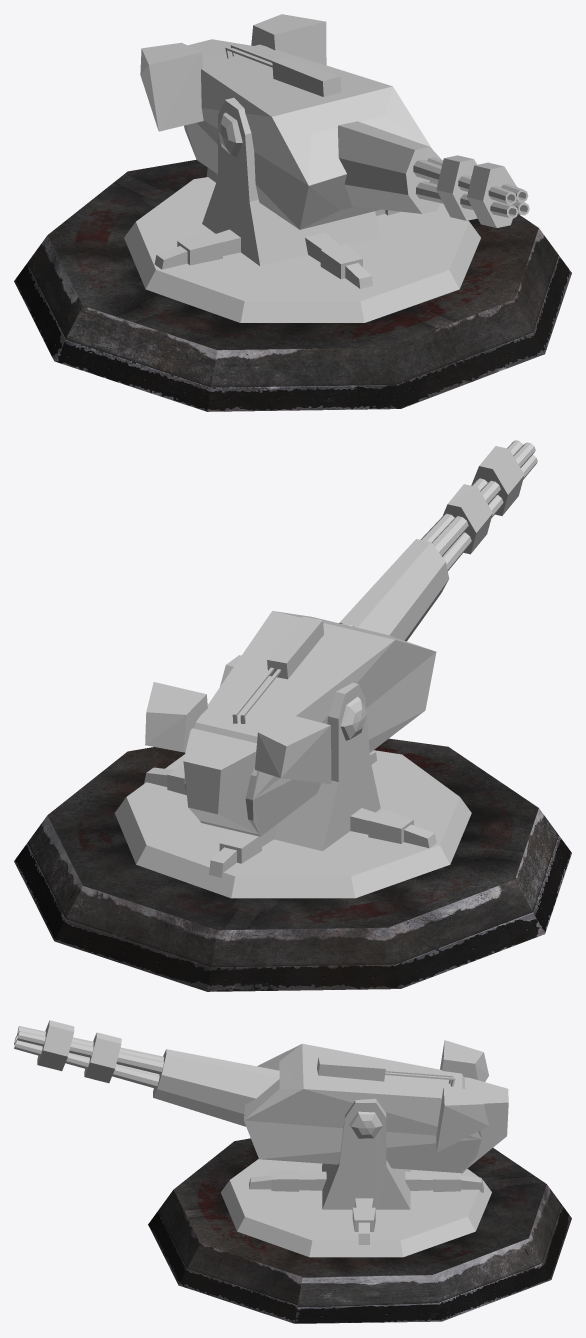
Rendered from canon_plasma_lod1.dae.
The picture shows the model from 3 angles, top to bottom: view 1: azimuth 30°, elevation 25°; view 2: azimuth 150°, elevation 25°; view 3: azimuth 270°, elevation 25°; orthographic projection. The views are drawn at different scales.
Visible parts, largest first — view 1: Mesh_Object, Mesh_Object_2, Mesh_Object_3, Mesh_Object_4; view 2: Mesh_Object, Mesh_Object_3, Mesh_Object_2, Mesh_Object_4; view 3: Mesh_Object, Mesh_Object_3, Mesh_Object_2, Mesh_Object_4.
Part boxes in pixels (bbox=[...]): Mesh_Object: bbox=[14, 159, 571, 411]; Mesh_Object_2: bbox=[124, 97, 480, 322]; Mesh_Object_3: bbox=[140, 14, 431, 229]; Mesh_Object_4: bbox=[337, 121, 529, 227]; Mesh_Object: bbox=[14, 738, 571, 991]; Mesh_Object_3: bbox=[145, 611, 436, 836]; Mesh_Object_2: bbox=[114, 655, 471, 898]; Mesh_Object_4: bbox=[339, 440, 537, 641]; Mesh_Object: bbox=[148, 1138, 571, 1323]; Mesh_Object_3: bbox=[243, 1040, 508, 1173]; Mesh_Object_2: bbox=[221, 1098, 491, 1257]; Mesh_Object_4: bbox=[14, 1020, 279, 1126].
Size of the model in its own units: 2.29 by 1.29 by 3.05.
